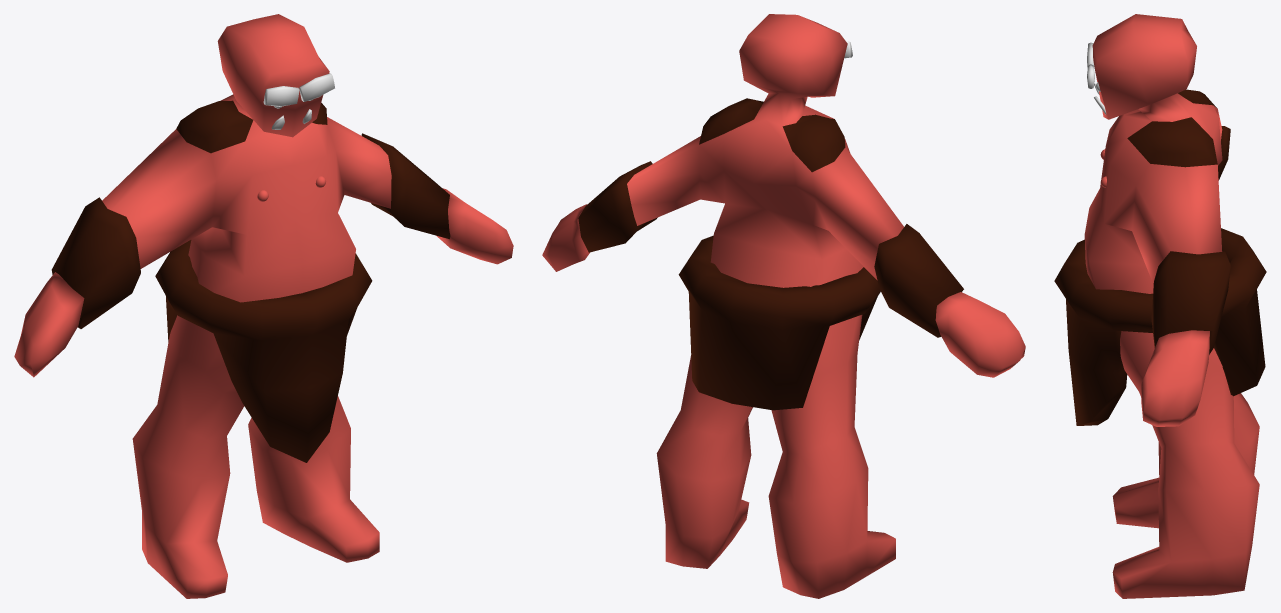
The model's file is Ogre.glb.
3 views of the same model, side by side, from view 1: azimuth 30°, elevation 25°; view 2: azimuth 150°, elevation 25°; view 3: azimuth 270°, elevation 25° (orthographic). The views are drawn at different scales.
Parts seen in each view (by area): view 1: Cube.001_Cube.001_Material.003, Cube.001_Cube.001_Material.004, Cube.001_Cube.001_Material.001; view 2: Cube.001_Cube.001_Material.003, Cube.001_Cube.001_Material.004; view 3: Cube.001_Cube.001_Material.003, Cube.001_Cube.001_Material.004, Cube.001_Cube.001_Material.001.
Boxes of the visible parts, x1,y1,x2,y2 form: Cube.001_Cube.001_Material.003: (14, 14, 513, 598); Cube.001_Cube.001_Material.004: (51, 100, 450, 462); Cube.001_Cube.001_Material.001: (263, 73, 334, 108); Cube.001_Cube.001_Material.003: (542, 14, 1025, 598); Cube.001_Cube.001_Material.004: (578, 98, 963, 410); Cube.001_Cube.001_Material.003: (1084, 14, 1259, 598); Cube.001_Cube.001_Material.004: (1054, 89, 1266, 425); Cube.001_Cube.001_Material.001: (1087, 42, 1100, 91).
Bounding box in the file's own units: 3.29 × 3.49 × 1.27.
